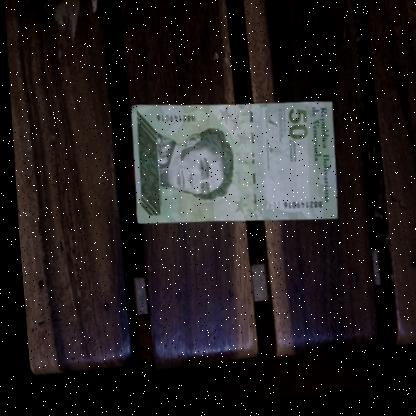fifty-front-vef: (124, 93, 338, 234)
